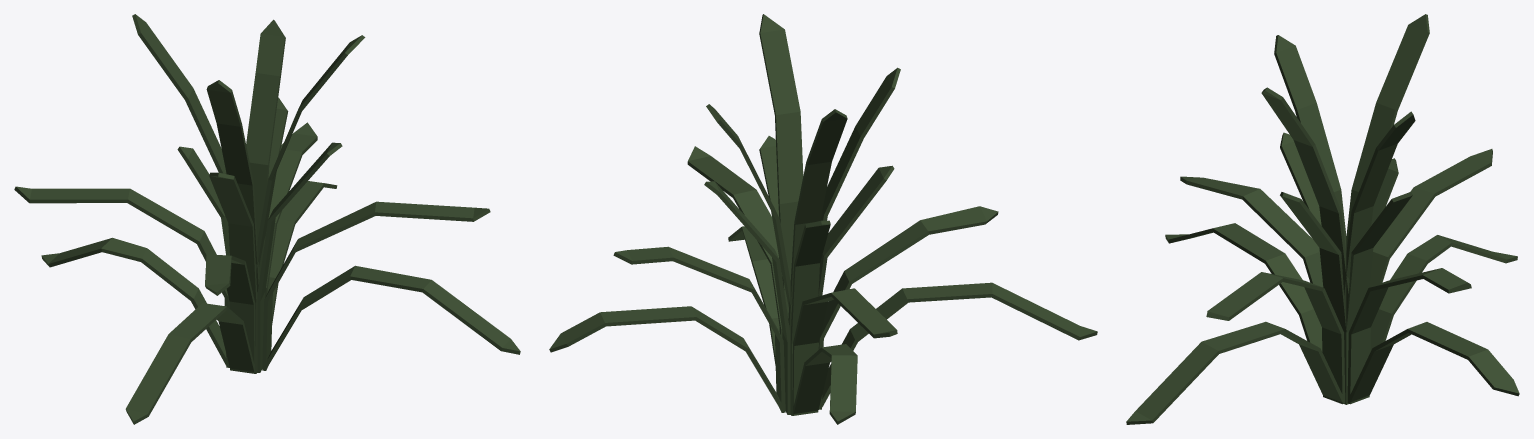
Rendered from Plant_3.glb.
The picture shows the model from 3 angles, left to right: view 1: azimuth 30°, elevation 25°; view 2: azimuth 150°, elevation 25°; view 3: azimuth 270°, elevation 25°; orthographic projection.
Visible parts, largest first — view 1: Plant_3_Plane; view 2: Plant_3_Plane; view 3: Plant_3_Plane.
Boxes of the visible parts, bbox=[...] form: Plant_3_Plane: bbox=[14, 14, 520, 424]; Plant_3_Plane: bbox=[549, 14, 1097, 424]; Plant_3_Plane: bbox=[1126, 14, 1519, 424].
Bounding box in the file's own units: 1.09 × 0.9438 × 0.9724.
